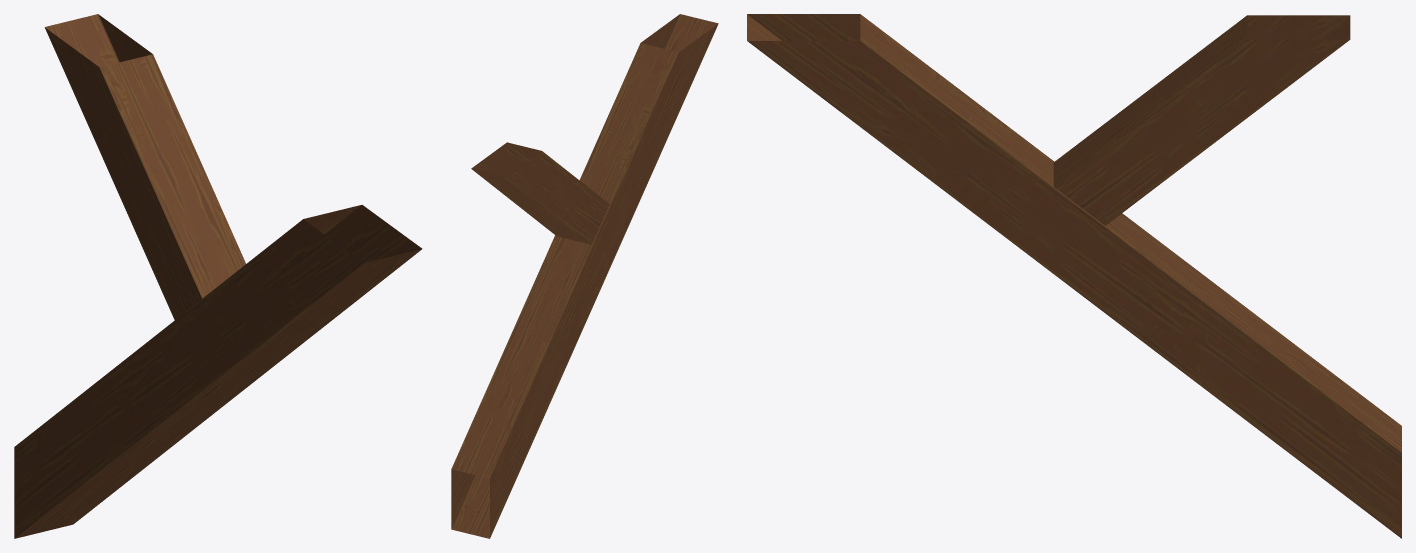
Rendered from prop_support.glb.
3 views of the same model, side by side, from view 1: azimuth 30°, elevation 25°; view 2: azimuth 150°, elevation 25°; view 3: azimuth 270°, elevation 25° (orthographic). The views are drawn at different scales.
Parts seen in each view (by area): view 1: Prop_Support; view 2: Prop_Support; view 3: Prop_Support.
Boxes of the visible parts, x1,y1,x2,y2 form: Prop_Support: [14, 14, 422, 538]; Prop_Support: [451, 14, 718, 538]; Prop_Support: [747, 14, 1401, 538].
Size of the model in its own units: 0.1986 by 1.71 by 2.04.
1 material, 1 textured.
